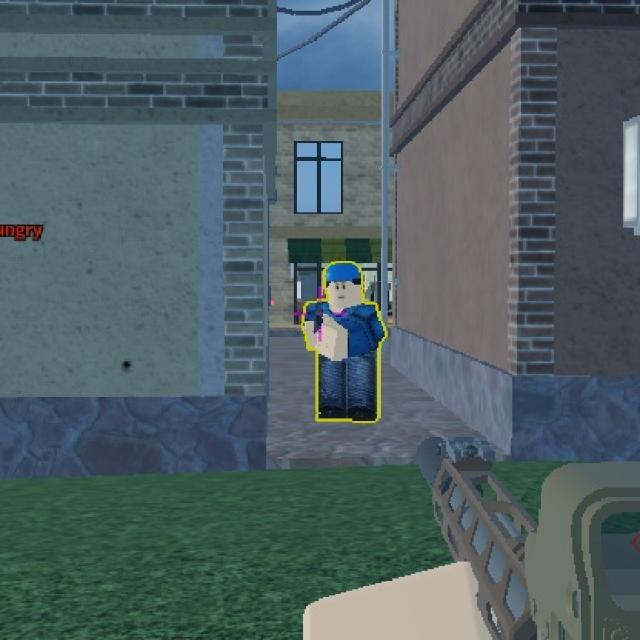player: (304, 255, 390, 428)
